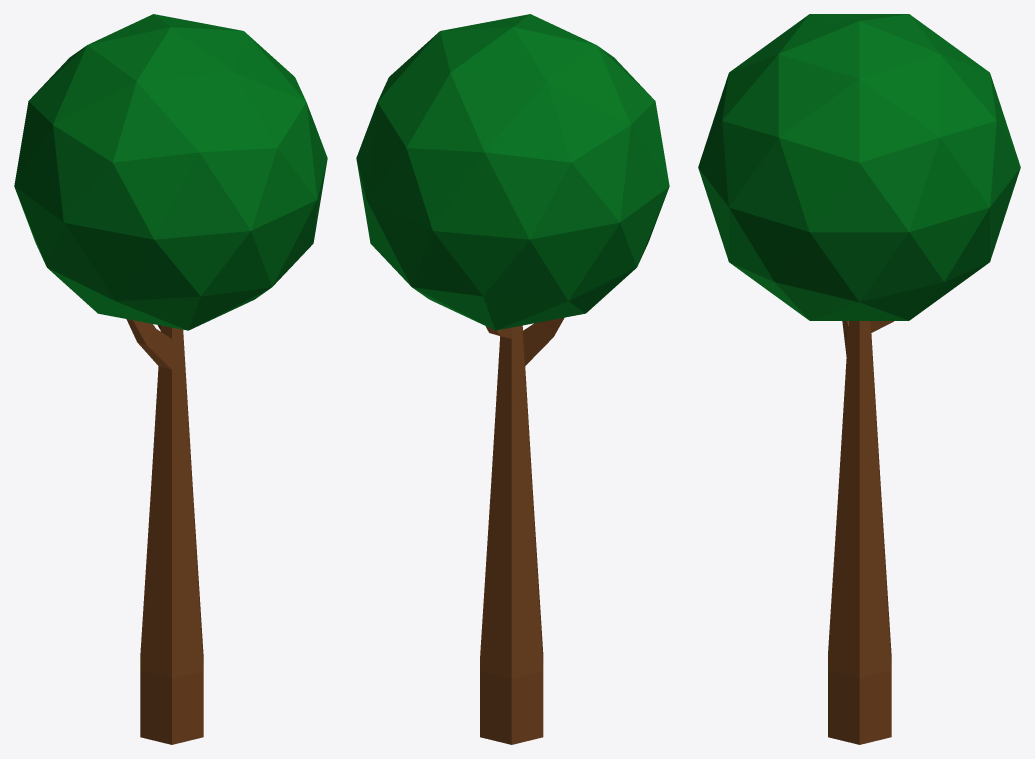
The model's file is Model_Drzewo3.fbx.
3 renders of one model, left to right at view 1: azimuth 30°, elevation 25°; view 2: azimuth 150°, elevation 25°; view 3: azimuth 270°, elevation 25°, orthographic.
Visible parts, largest first — view 1: Icosphere; view 2: Icosphere; view 3: Icosphere.
Boxes of the visible parts, x1,y1,x2,y2 form: Icosphere: (14,14,327,744); Icosphere: (356,14,669,744); Icosphere: (698,14,1020,744).
Bounding box in the file's own units: 322 × 780 × 306.
